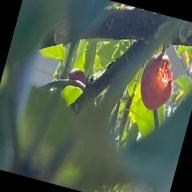Apples: (135, 51, 180, 114), (67, 67, 89, 86)
